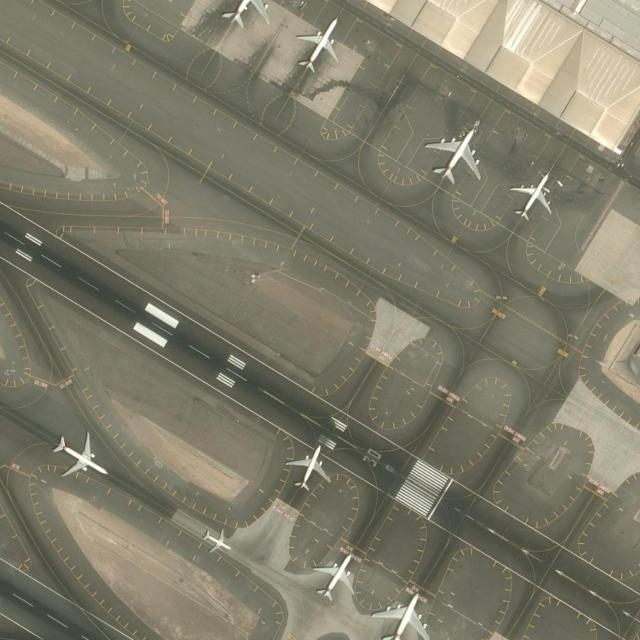Aircraft: (426, 121, 484, 185), (368, 587, 433, 640), (294, 11, 346, 75), (49, 431, 108, 485), (308, 550, 362, 604), (512, 168, 556, 222), (284, 444, 332, 492), (218, 0, 272, 31), (202, 529, 235, 556)
